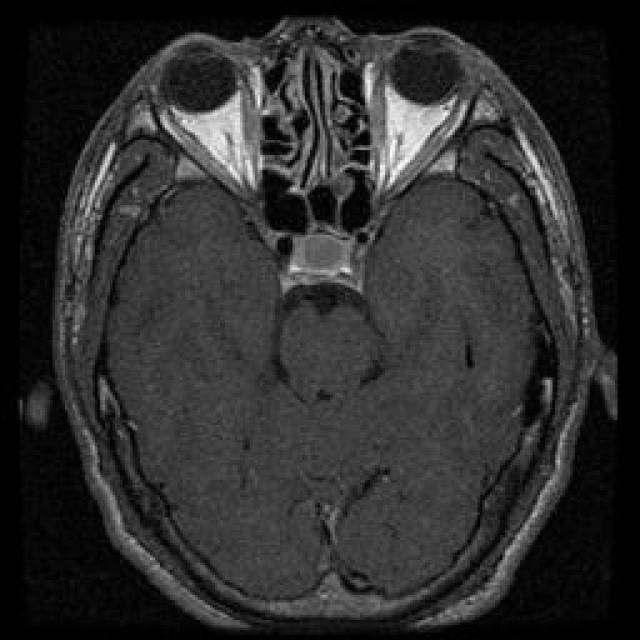pituitary: (280, 226, 370, 290)
